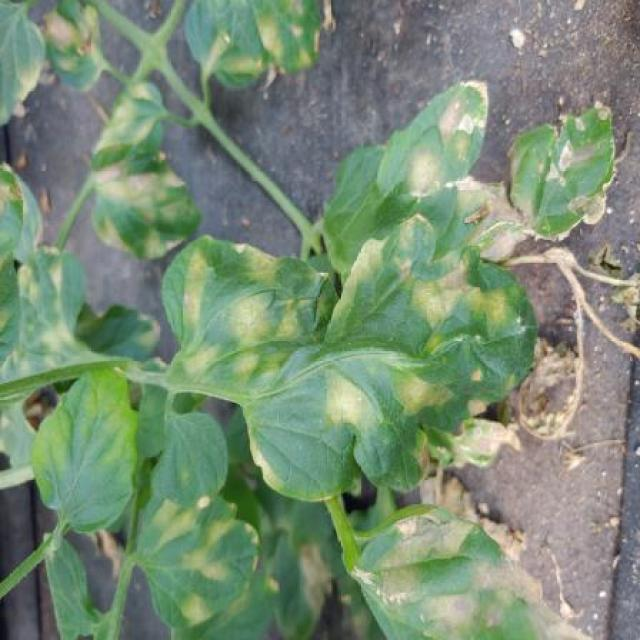Leaf Mold: (164, 212, 536, 504), (30, 367, 140, 536), (138, 487, 262, 632), (88, 142, 202, 259)
